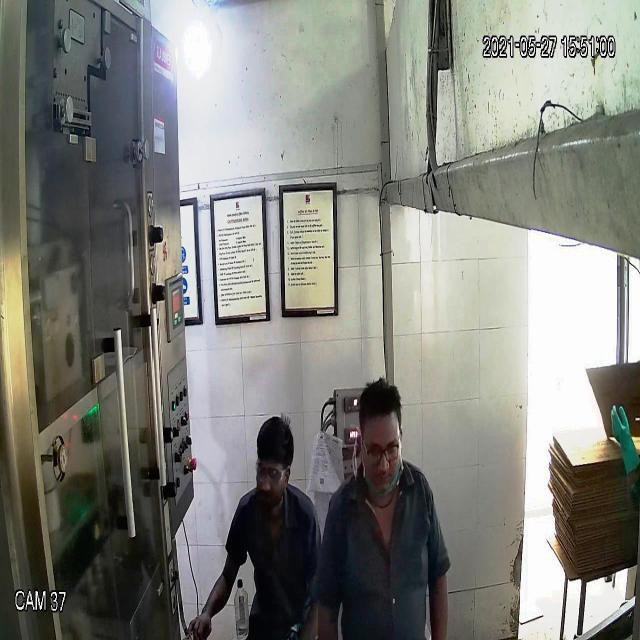glasses: (355, 436, 405, 469), (250, 452, 290, 487)
